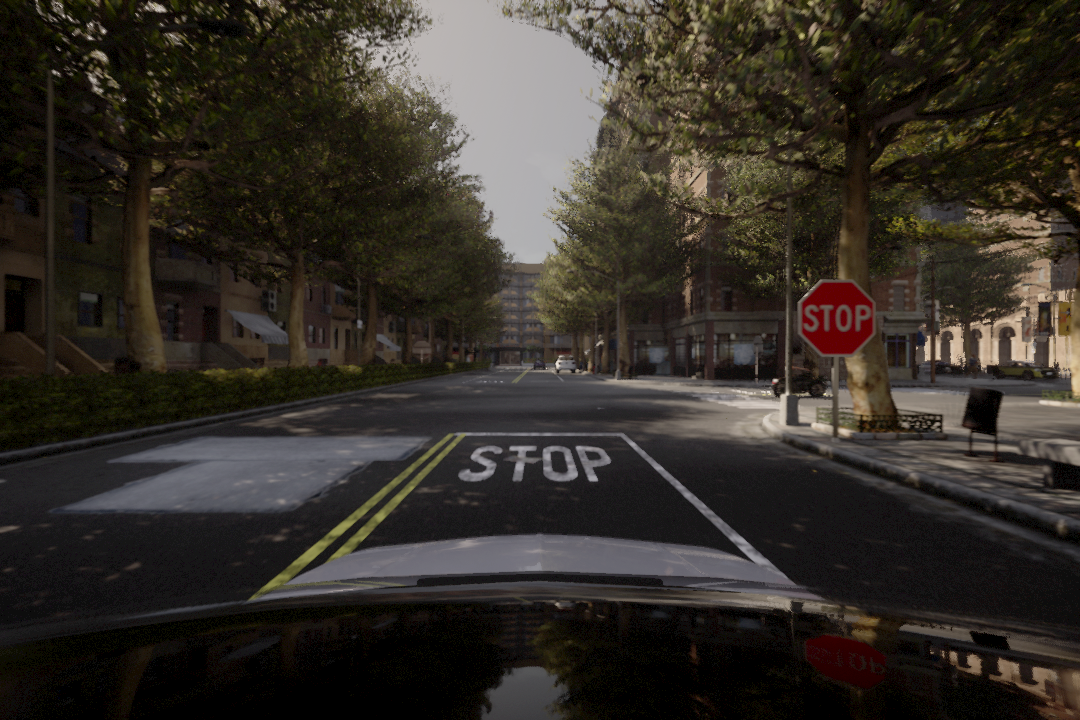TrafficSign_stop: (799, 276, 874, 359)
